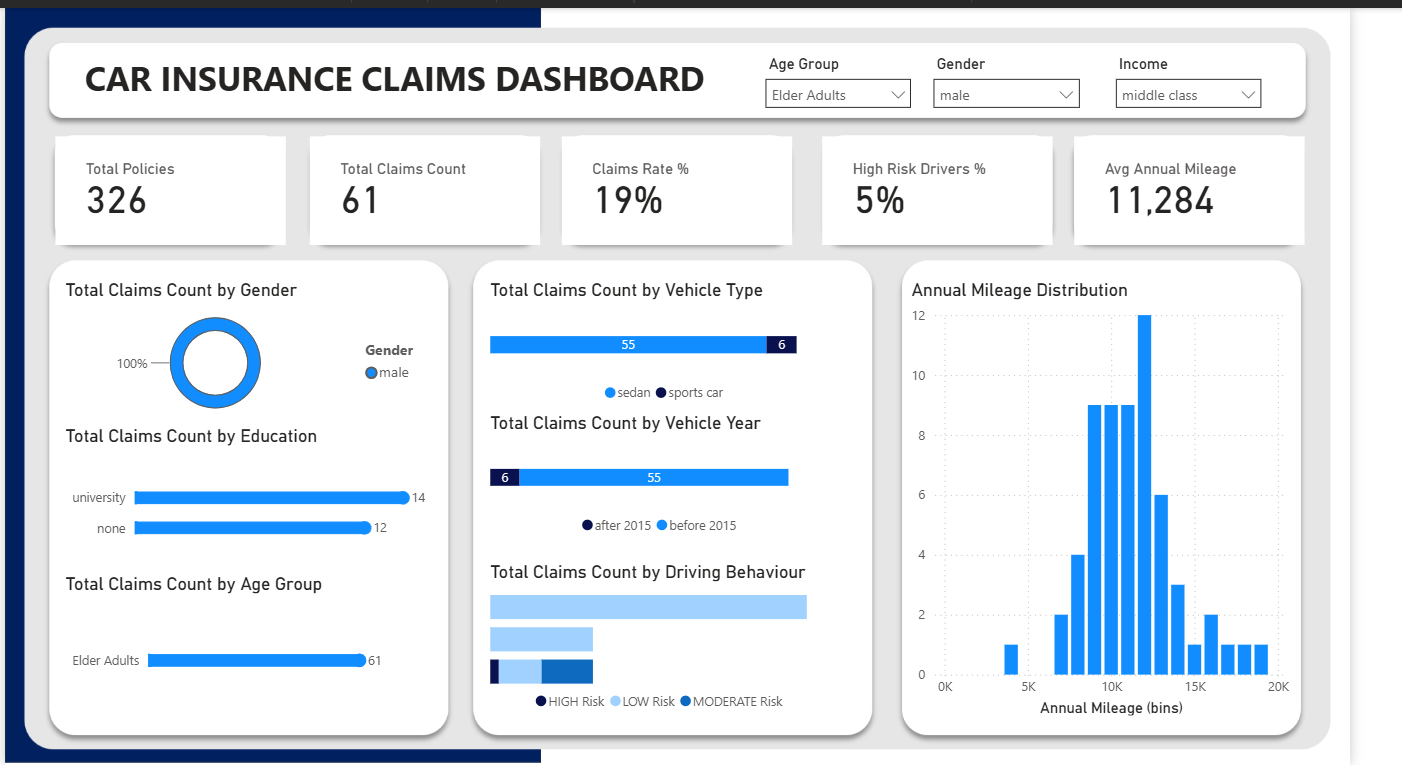

The dashboard page shown, as its layout file describes it:
{"tool":"powerbi","page":{"name":"Overview","canvas":[1280,720],"ordinal":0},"visuals":[{"type":"cardVisual","fields":{"Data":["_Measures.High Risk Drivers %"]},"box":[777.8,122.2,218.9,103.3],"z":0},{"type":"cardVisual","fields":{"Data":["_Measures.Avg Annual Mileage"]},"box":[1016.7,122.2,218.9,103.3],"z":1000},{"type":"cardVisual","fields":{"Data":["_Measures.Claims Rate %"]},"box":[530,122.2,218.9,103.3],"z":2000},{"type":"cardVisual","fields":{"Data":["_Measures.Total Claims Count"]},"box":[290,122.2,218.9,103.3],"z":3000},{"type":"cardVisual","fields":{"Data":["_Measures.Total Policies"]},"box":[47.8,122.2,218.9,103.3],"z":4000},{"type":"donutChart","fields":{"Y":["_Measures.Total Claims Count"],"Category":["Car_Insurance_Claim.Gender"]},"box":[52.2,257.8,361.1,140],"z":5000},{"type":"clusteredBarChart","fields":{"Category":["Car_Insurance_Claim.Education"],"Y":["_Measures.Total Claims Count"]},"box":[52.2,397.8,352.2,140],"z":6000},{"type":"barChart","fields":{"Category":["Car_Insurance_Claim.Age Group"],"Y":["_Measures.Total Claims Count"]},"box":[52.2,537.8,352.2,140],"z":7000},{"type":"barChart","fields":{"Y":["_Measures.Total Claims Count"],"Series":["Car_Insurance_Claim.Vehicle Type"]},"box":[456.7,257.8,344.4,126.7],"z":8000},{"type":"barChart","fields":{"Y":["_Measures.Total Claims Count"],"Series":["Car_Insurance_Claim.Vehicle Year"]},"box":[456.7,384.4,335.6,125.6],"z":9000},{"type":"barChart","title":"Total Claims Count by Driving Behaviour","fields":{"Y":["_Measures.Total Claims Count"],"Series":["Car_Insurance_Claim.Driving Risk Category"],"Category":["Car_Insurance_Claim.Driving Experience"]},"box":[456.7,526.7,335.6,151.1],"z":10000},{"type":"clusteredColumnChart","title":"Annual Mileage Distribution","fields":{"Category":["Car_Insurance_Claim.Annual Mileage (bins)"],"Y":["_Measures.Total Claims Count"]},"box":[857.8,257.8,370,420],"z":11000},{"type":"textbox","box":[71.1,40,616.7,70],"z":12000},{"type":"slicer","fields":{"Values":["Car_Insurance_Claim.Gender"]},"box":[873.3,40,158.9,62.2],"z":13000},{"type":"slicer","fields":{"Values":["Car_Insurance_Claim.Age Group"]},"box":[713.5,40,158.7,61.6],"z":14000},{"type":"slicer","fields":{"Values":["Car_Insurance_Claim.Income"]},"box":[1046.8,40,158.7,61.6],"z":15000}]}

Visuals, with their boxes on the page's 1280x720 design canvas (x1, y1, x2, y2). These are canvas units, not pixel positions in the 1402x765 screenshot, which may show the page scaled, cropped or inside an application window:
cardVisual - _Measures.High Risk Drivers %: l=778, t=122, r=997, b=226
cardVisual - _Measures.Avg Annual Mileage: l=1017, t=122, r=1236, b=226
cardVisual - _Measures.Claims Rate %: l=530, t=122, r=749, b=226
cardVisual - _Measures.Total Claims Count: l=290, t=122, r=509, b=226
cardVisual - _Measures.Total Policies: l=48, t=122, r=267, b=226
donutChart - _Measures.Total Claims Count x Car_Insurance_Claim.Gender: l=52, t=258, r=413, b=398
clusteredBarChart - Car_Insurance_Claim.Education x _Measures.Total Claims Count: l=52, t=398, r=404, b=538
barChart - Car_Insurance_Claim.Age Group x _Measures.Total Claims Count: l=52, t=538, r=404, b=678
barChart - _Measures.Total Claims Count x Car_Insurance_Claim.Vehicle Type: l=457, t=258, r=801, b=384
barChart - _Measures.Total Claims Count x Car_Insurance_Claim.Vehicle Year: l=457, t=384, r=792, b=510
"Total Claims Count by Driving Behaviour" barChart: l=457, t=527, r=792, b=678
"Annual Mileage Distribution" clusteredColumnChart: l=858, t=258, r=1228, b=678
textbox: l=71, t=40, r=688, b=110
slicer - Car_Insurance_Claim.Gender: l=873, t=40, r=1032, b=102
slicer - Car_Insurance_Claim.Age Group: l=714, t=40, r=872, b=102
slicer - Car_Insurance_Claim.Income: l=1047, t=40, r=1206, b=102
